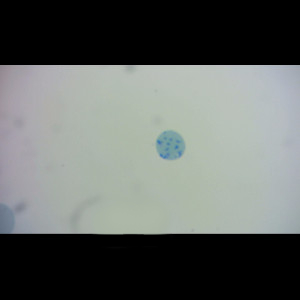aggregate reticulocyte: (154, 128, 187, 162)
